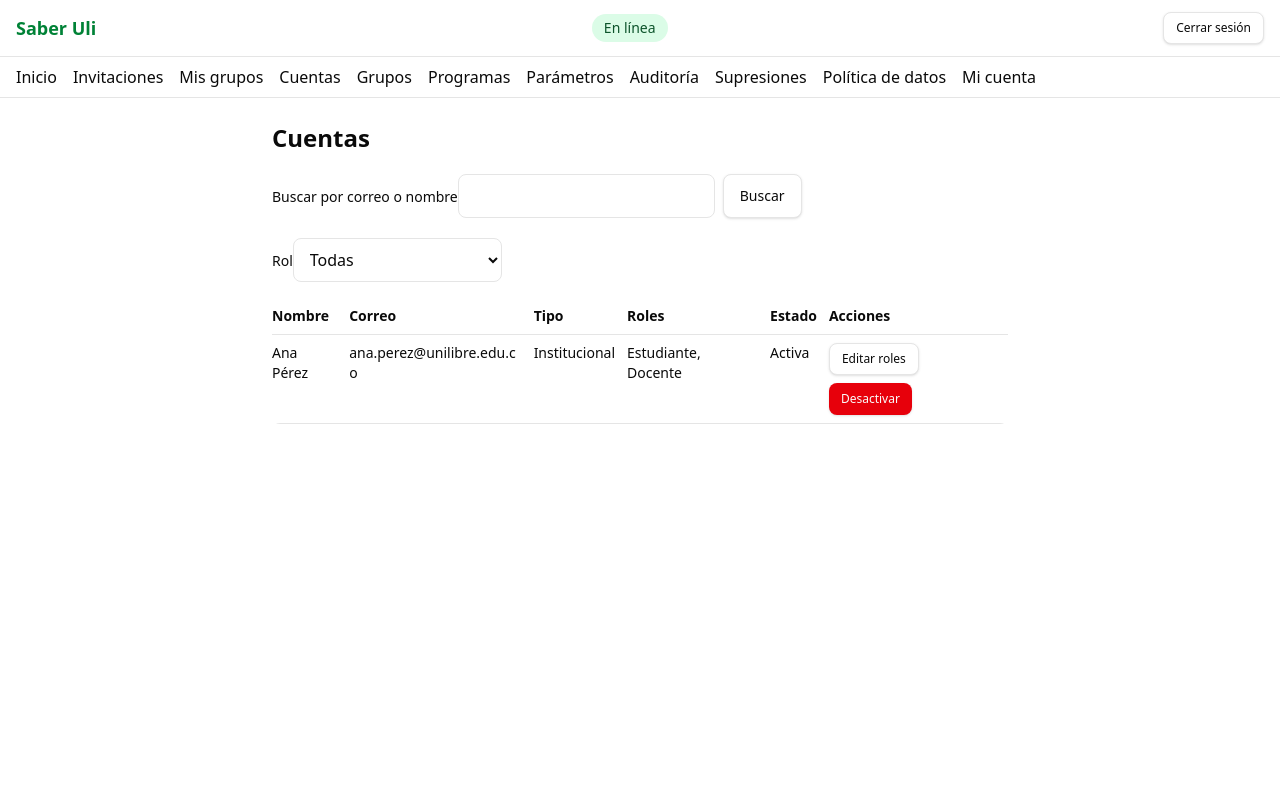
Scenario: cuentas › edita los roles y los programas del director
Click the button with aria-label "Editar roles de Ana Pérez" at [874, 359], box [829,343,919,375]
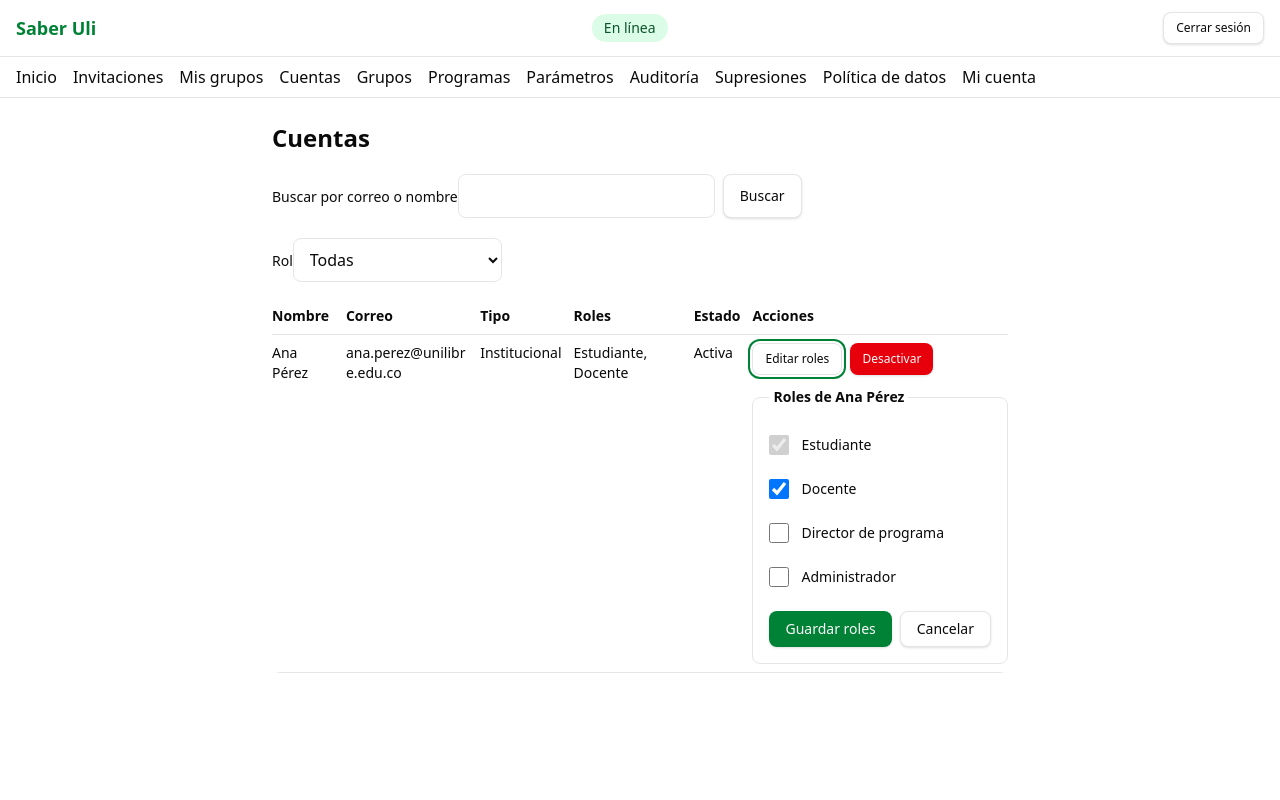
Check: the checkbox labelled "Estudiante" is checked, box [770,435,790,455]
Check: the checkbox labelled "Estudiante" is disabled, box [770,435,790,455]
Click the checkbox labelled "Docente" at [780, 489], box [770,479,790,499]
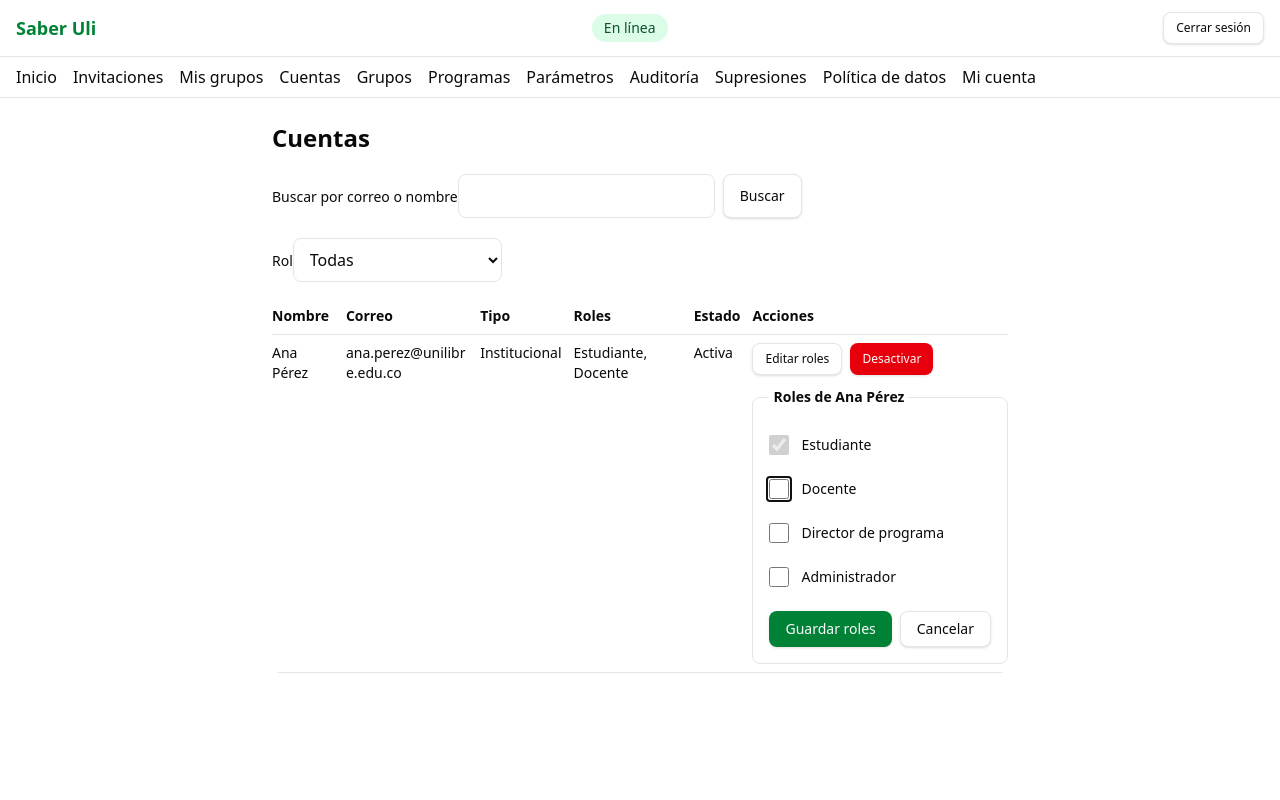
Click the checkbox labelled "Director de programa" at [780, 533], box [770,523,790,543]
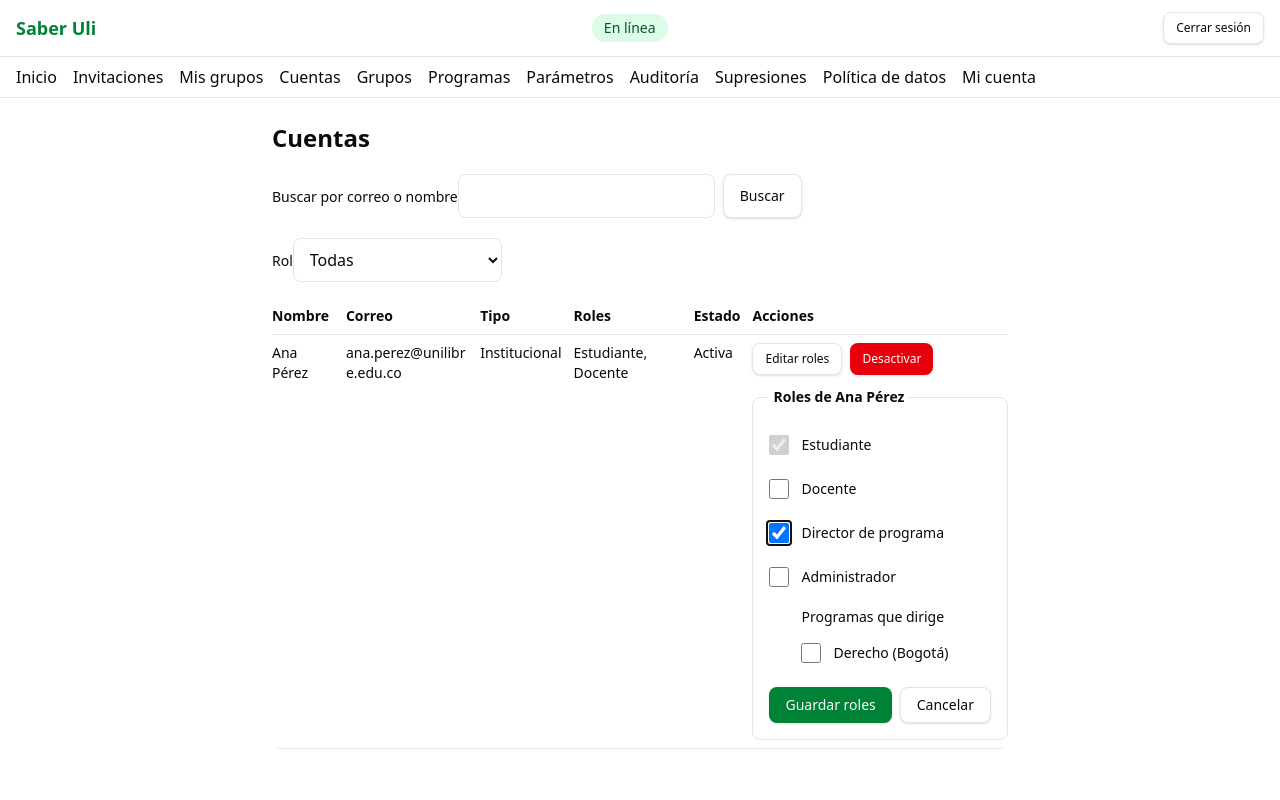
Click the checkbox labelled "Derecho (Bogotá)" at [812, 653], box [802,643,822,663]
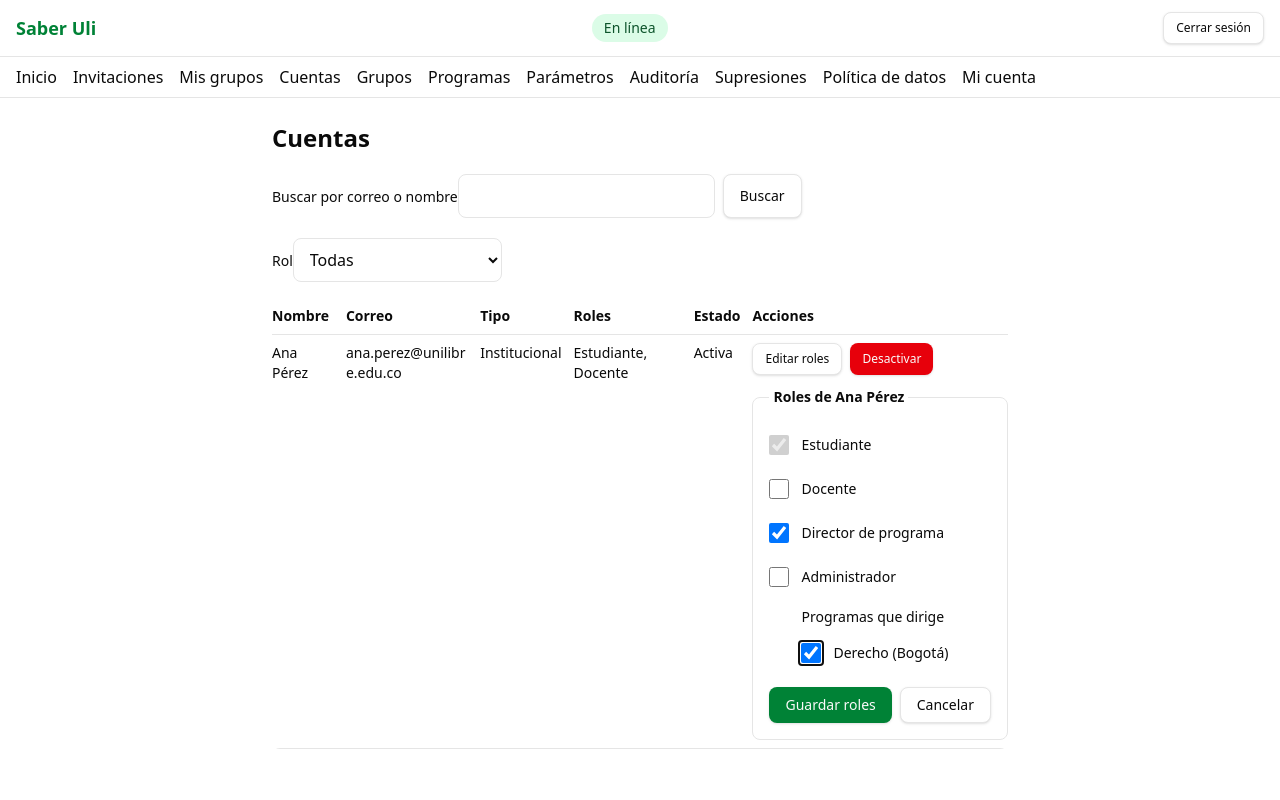
Click the button "Guardar roles" at [831, 705], box [770,687,892,723]
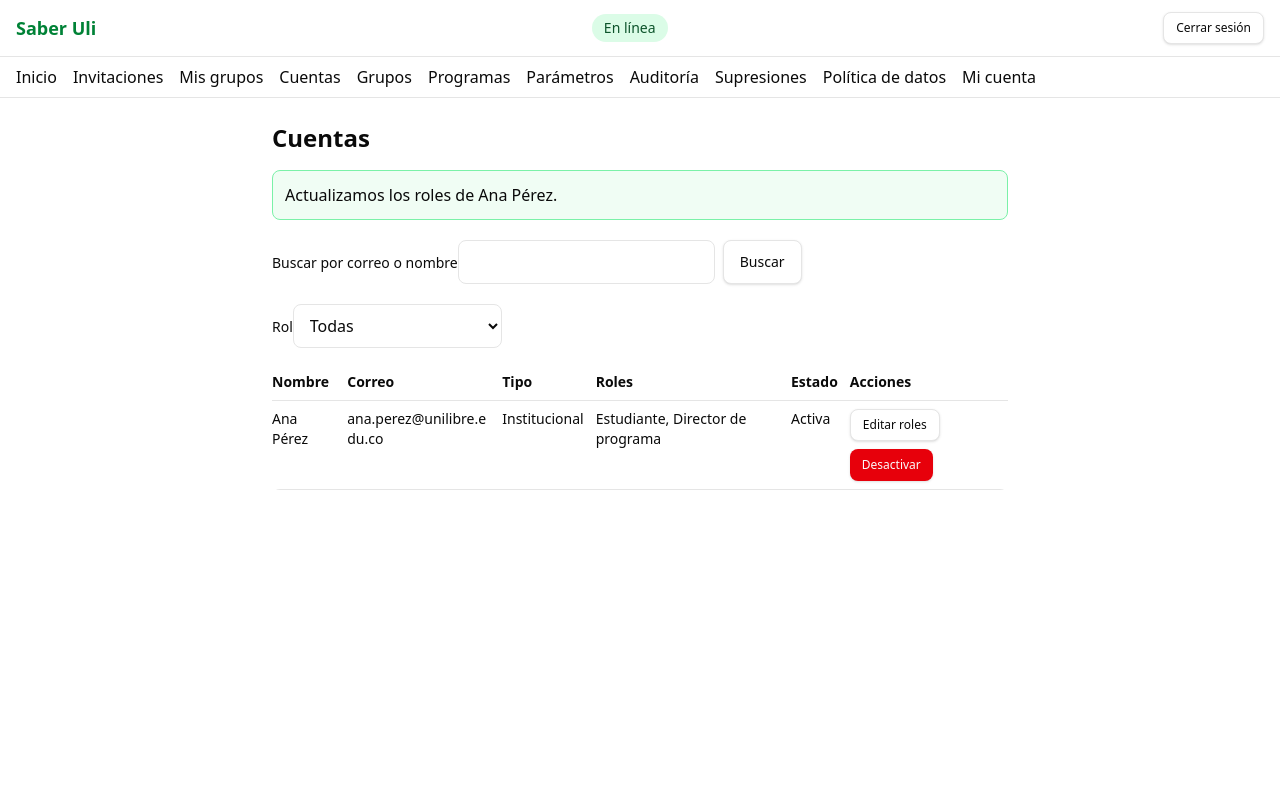
Check: the text "Actualizamos los roles de Ana Pérez." is shown, box [272,170,1008,220]
